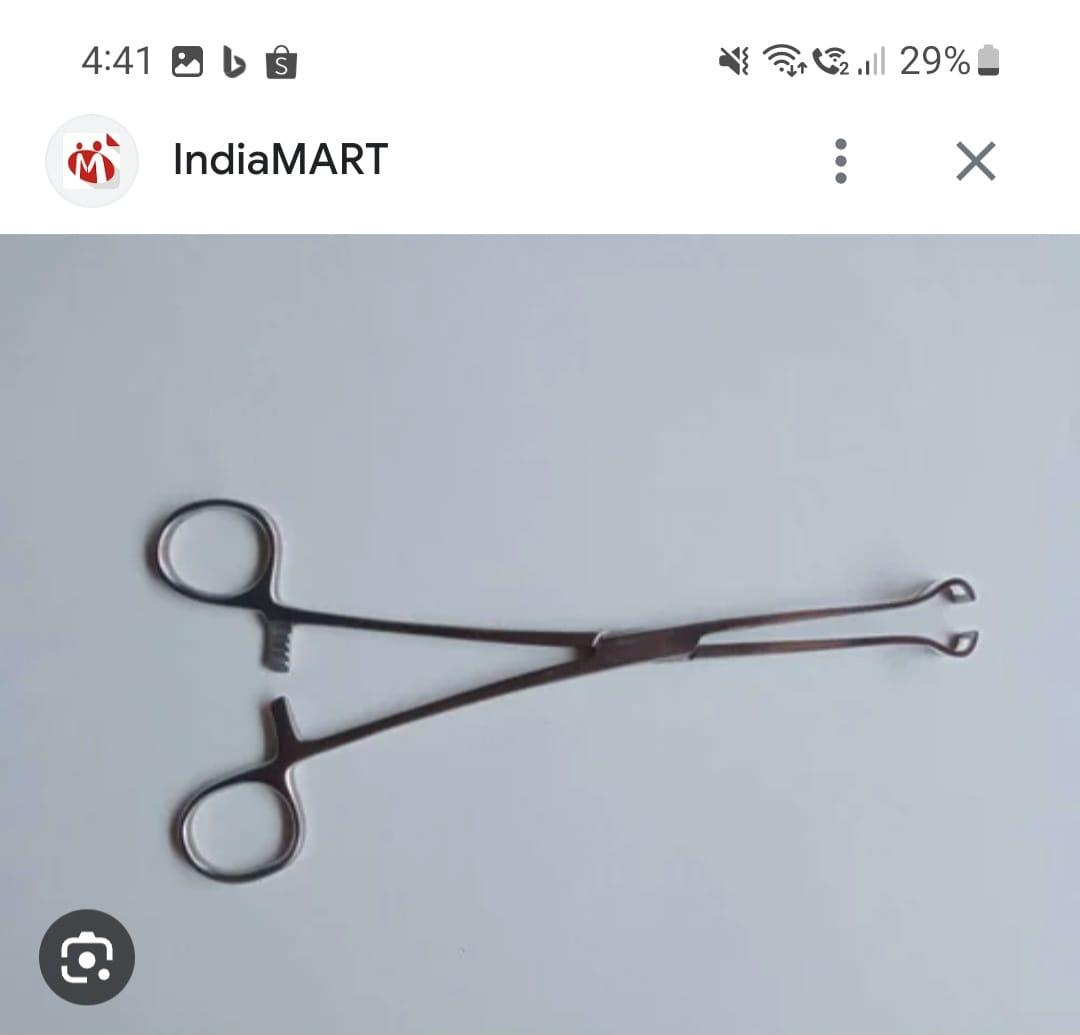Babcock Forceps: (132, 468, 987, 875)
